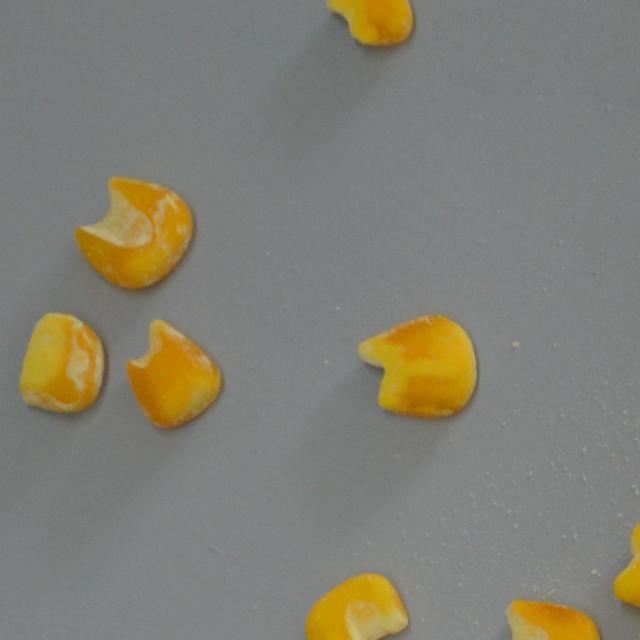no_canjicado: (302, 572, 409, 640)
pelicula: (70, 172, 195, 290), (356, 312, 478, 419), (124, 316, 225, 430), (14, 313, 105, 416), (476, 598, 600, 640), (326, 0, 414, 44), (611, 514, 640, 616)
